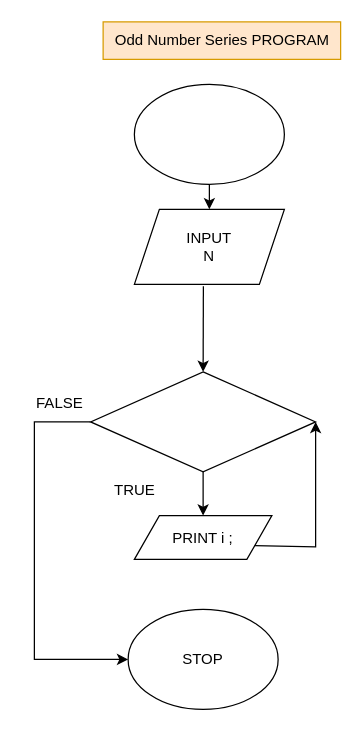
Image size: 363x731. Some labels were removed from this diagram. The box of each missing label's shape, as (x1, y1, x2, y2) in pixels:
FOR i=1; i<=N; i+=2: (89, 371, 316, 472)
START: (133, 83, 284, 184)
